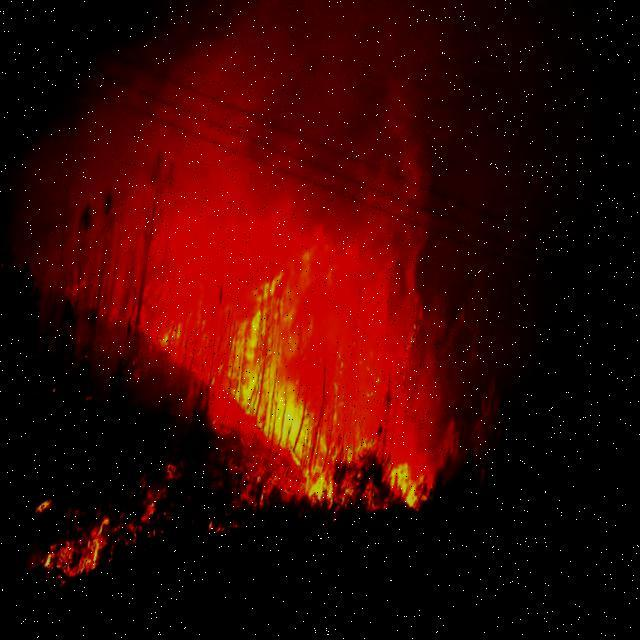Fire: (152, 256, 454, 550), (30, 464, 190, 591)
